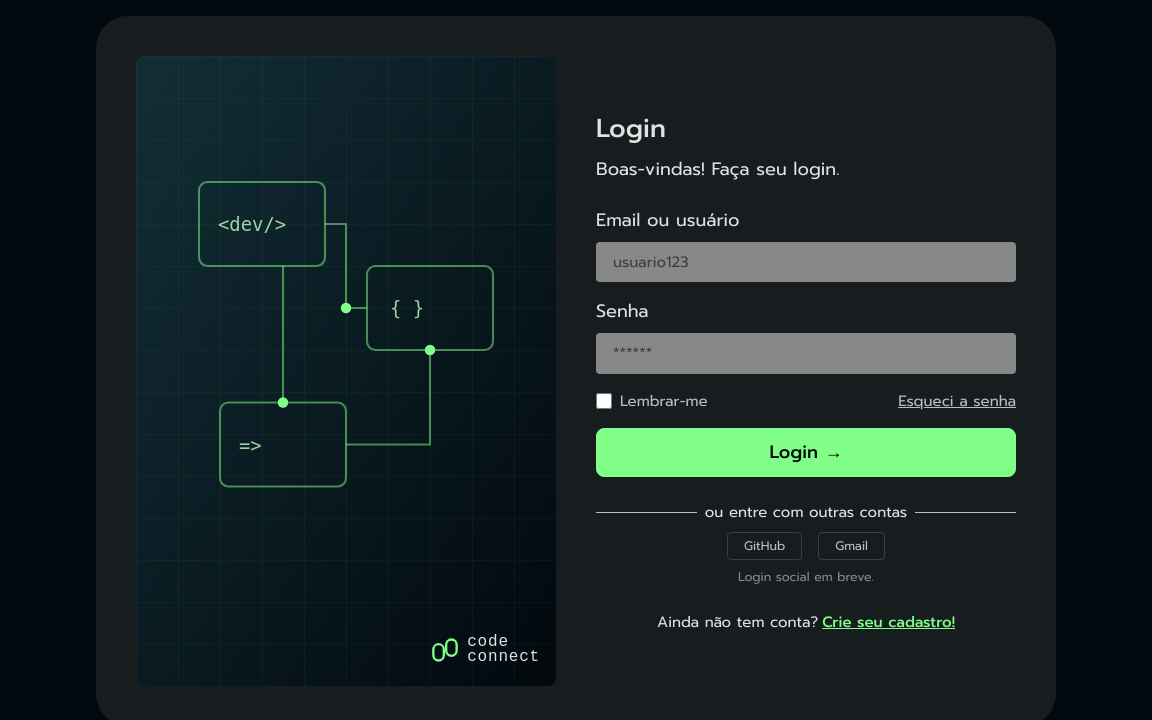
Página de Login › navega para o cadastro pelo link
Click the link "Crie seu cadastro!". click: (889, 622)
box: [822,611,955,634]
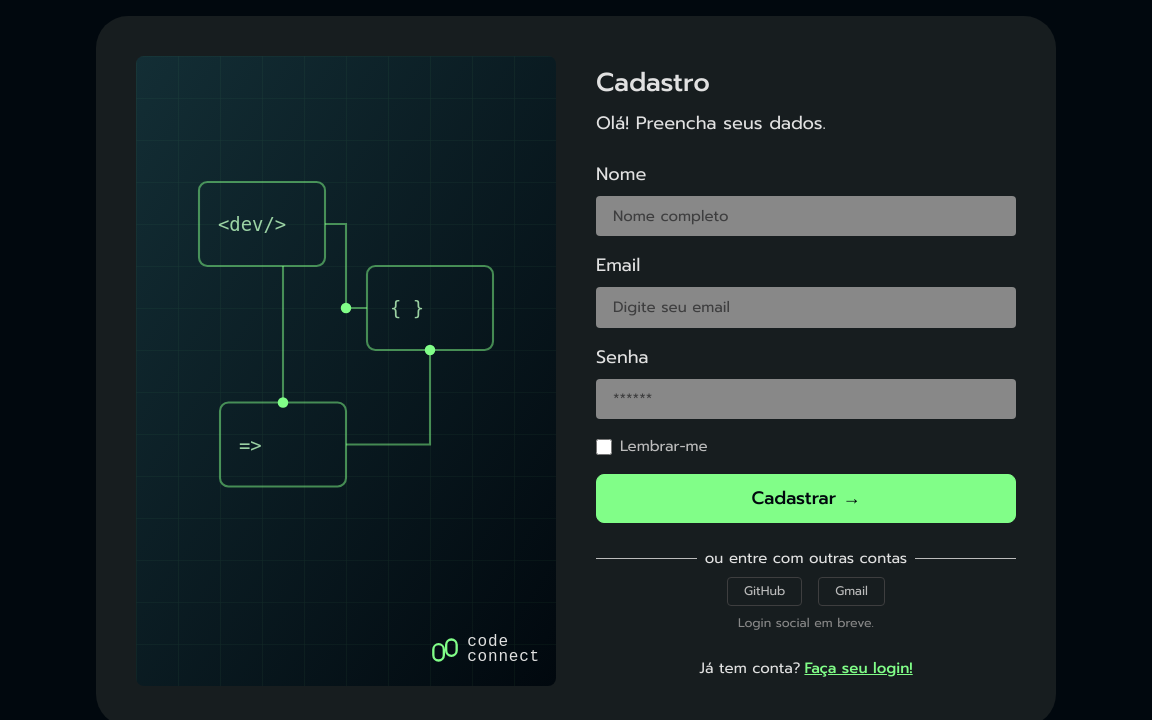
Now the heading "Cadastro" is shown, box [596,63,710,102]
